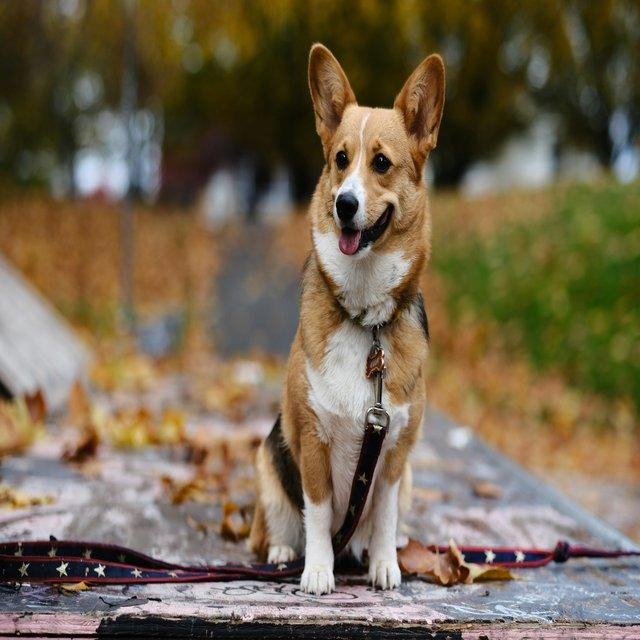corgi: (246, 40, 447, 595)
